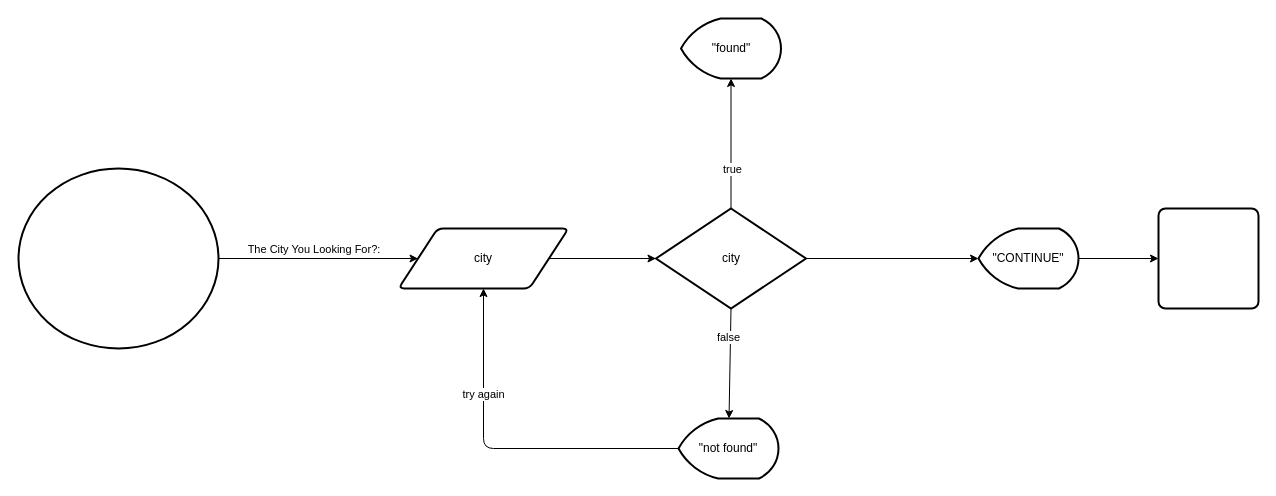
Image size: 1276x496. Some labels were removed from this diagram. Here are the shapes that lost their labels. From the top down, the centre of each, then its label:
At (118,258): "import numpy as np".
At (1208,258): "sasho".
